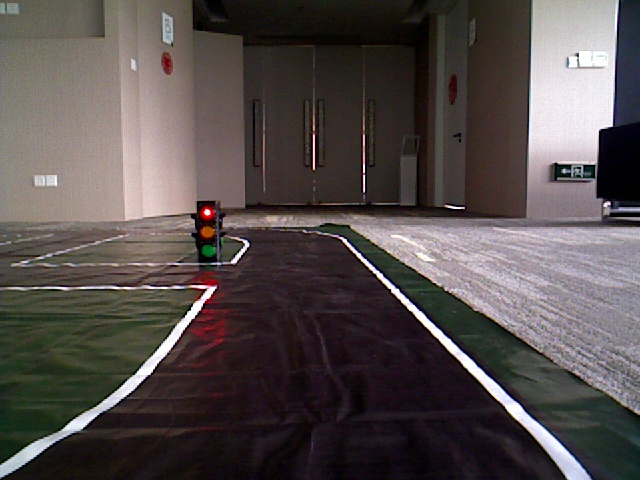red: (196, 200, 218, 254)
